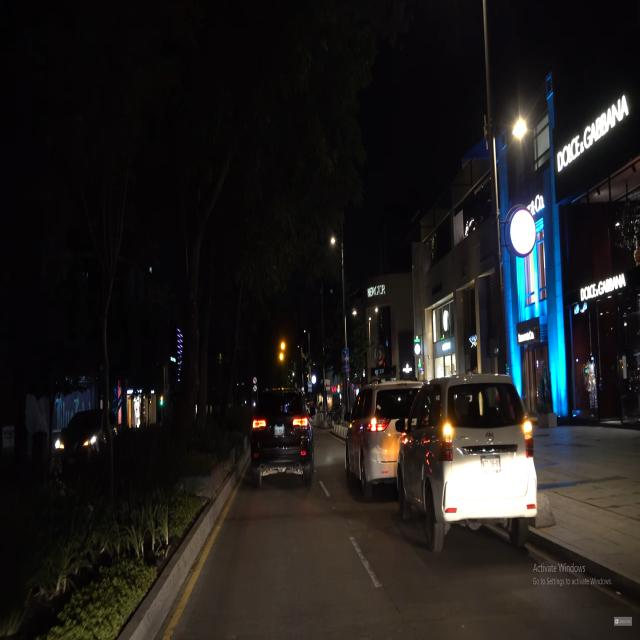headlights: (50, 425, 106, 458)
